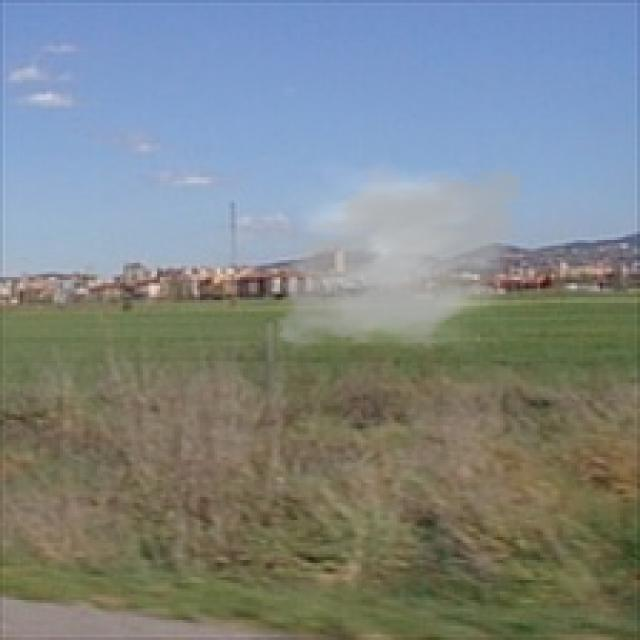Smoke: (266, 154, 534, 366)
